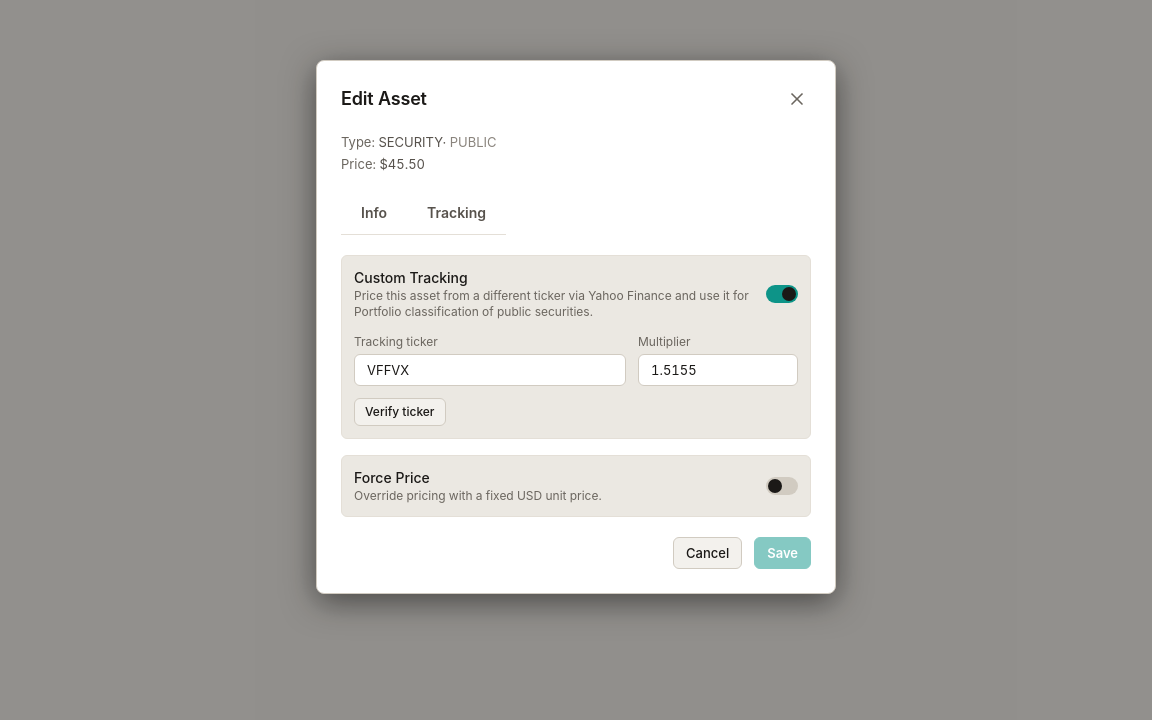
Test case: AssetEditModal › toggling off then on restores unsaved values, and the initial state disables Save
Step 1. Replace the text in the field labelled "Tracking ticker" with "SPY" → coordinates (490, 370), box x1=354 y1=354 x2=626 y2=386
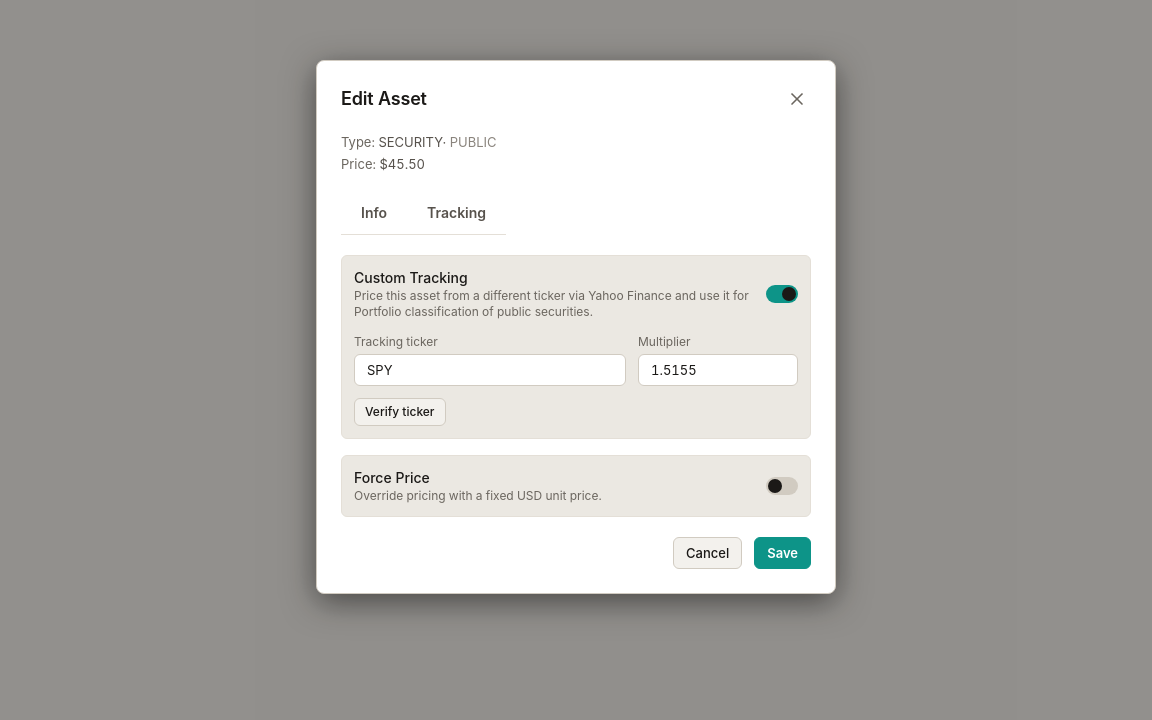
Step 2. Click the switch named "Custom Tracking" → coordinates (782, 294), box x1=766 y1=285 x2=798 y2=303
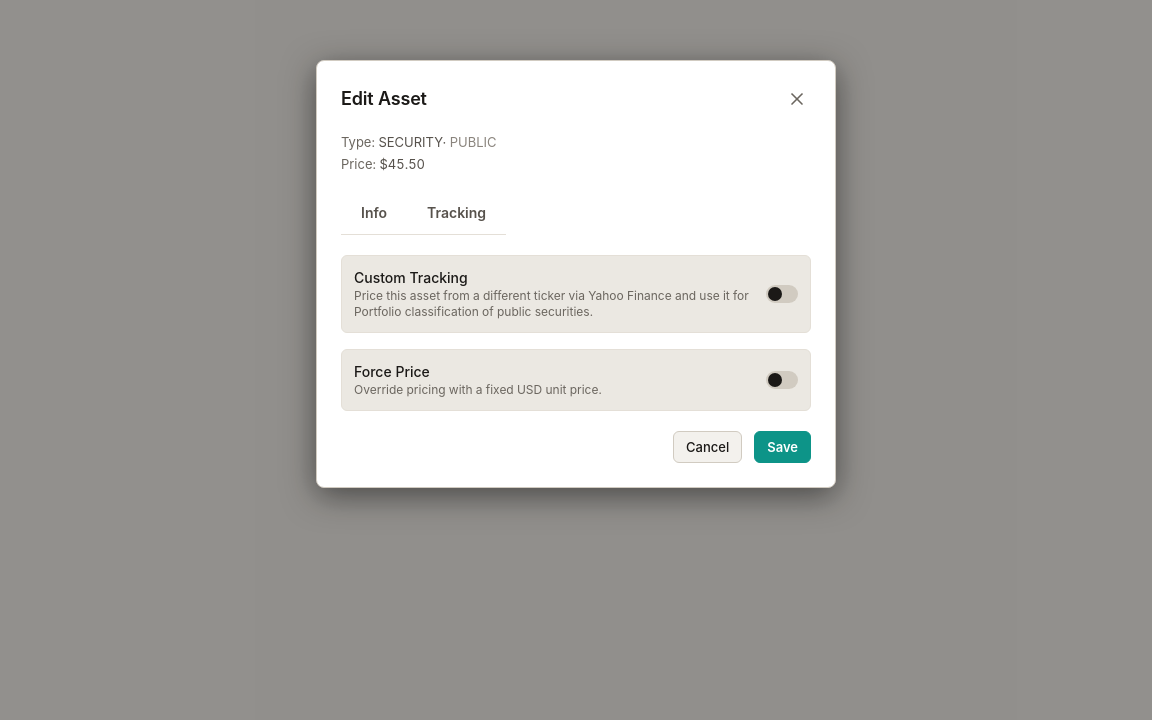
Step 3. Click the switch named "Custom Tracking" → coordinates (782, 294), box x1=766 y1=285 x2=798 y2=303
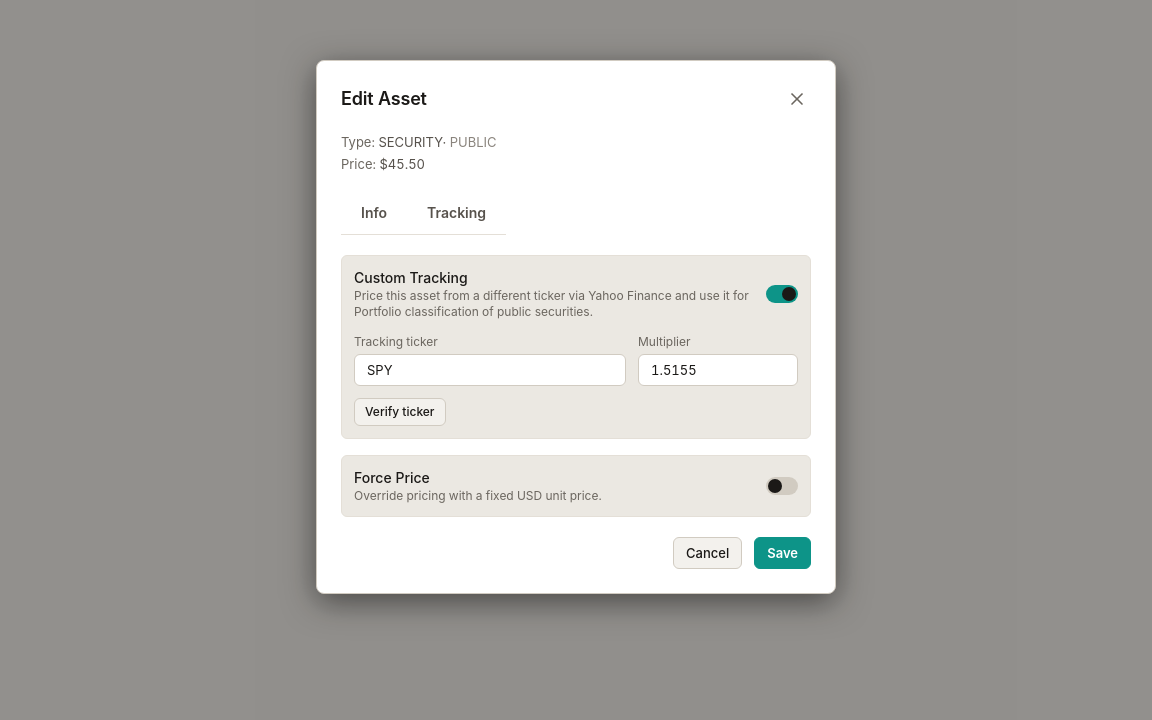
expect the field labelled "Tracking ticker" holds "SPY": met
Step 4. Replace the text in the field labelled "Tracking ticker" with "VFFVX" → coordinates (490, 370), box x1=354 y1=354 x2=626 y2=386
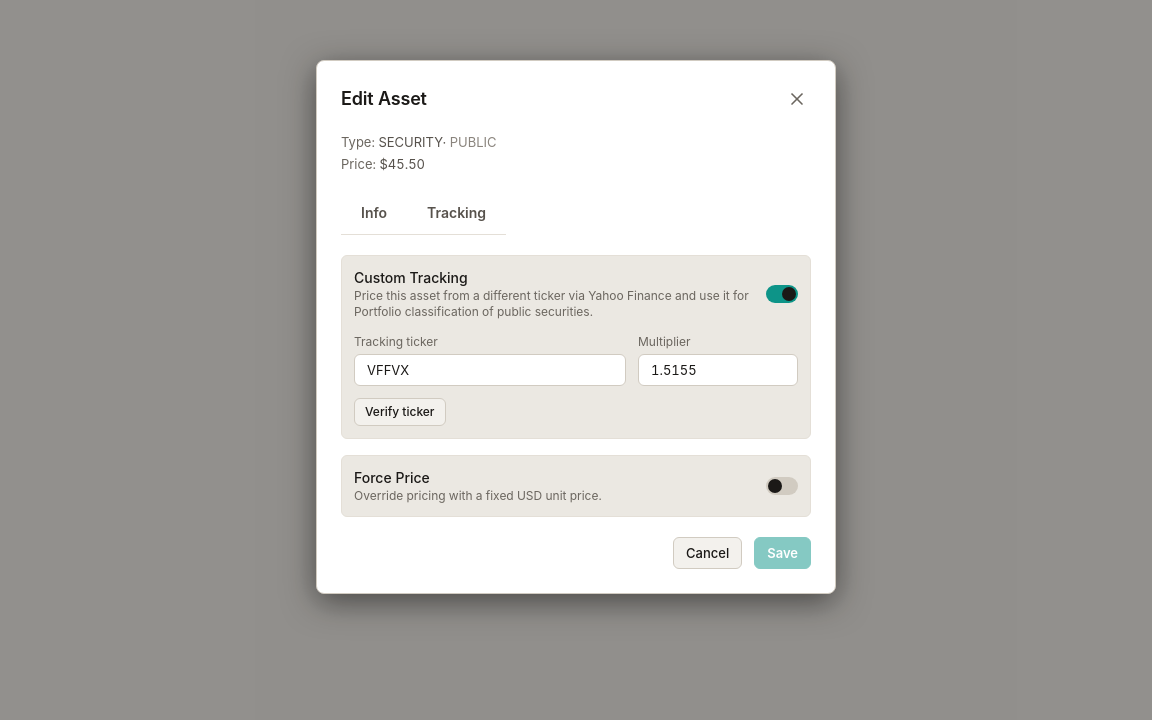
expect the button "Save" is disabled: met, box x1=754 y1=537 x2=811 y2=569
